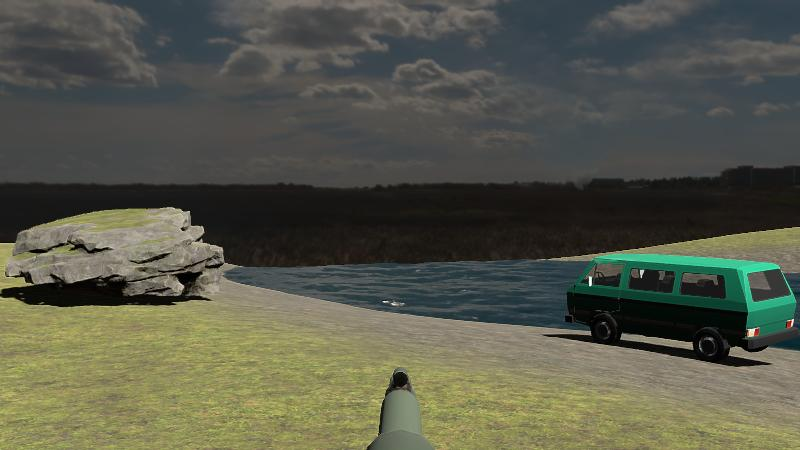car: (565, 254, 799, 360)
